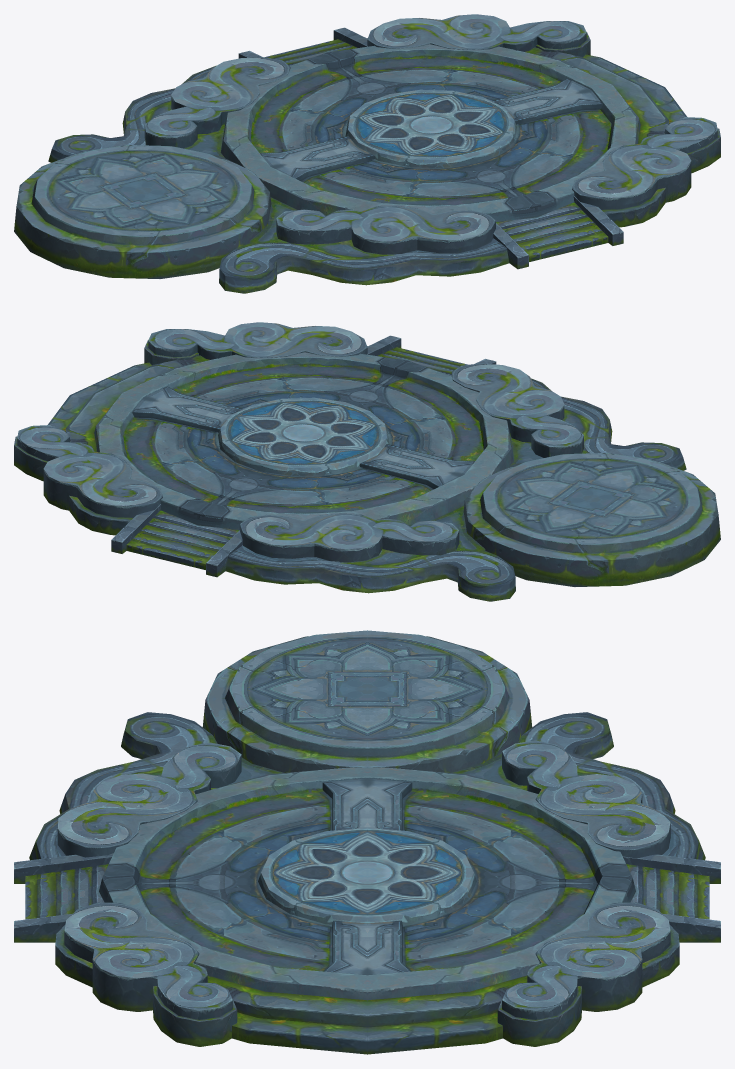
Rendered from fb_tys_zj_01.FBX.
3 views of the same model, one above another, from view 1: azimuth 30°, elevation 25°; view 2: azimuth 150°, elevation 25°; view 3: azimuth 270°, elevation 25° (orthographic). The views are drawn at different scales.
Parts seen in each view (by area): view 1: fb_tys_zj_01_b, fb_tys_zj_01_a; view 2: fb_tys_zj_01_b, fb_tys_zj_01_a; view 3: fb_tys_zj_01_b, fb_tys_zj_01_a.
Part boxes in pixels (box(x1,y1,x2,y2)): fb_tys_zj_01_b: box(14, 14, 720, 293); fb_tys_zj_01_a: box(220, 44, 640, 221); fb_tys_zj_01_b: box(14, 322, 720, 601); fb_tys_zj_01_a: box(94, 352, 514, 529); fb_tys_zj_01_b: box(14, 630, 720, 1054); fb_tys_zj_01_a: box(99, 767, 635, 1000).
Bounding box in the file's own units: 2979 × 152 × 2268.
